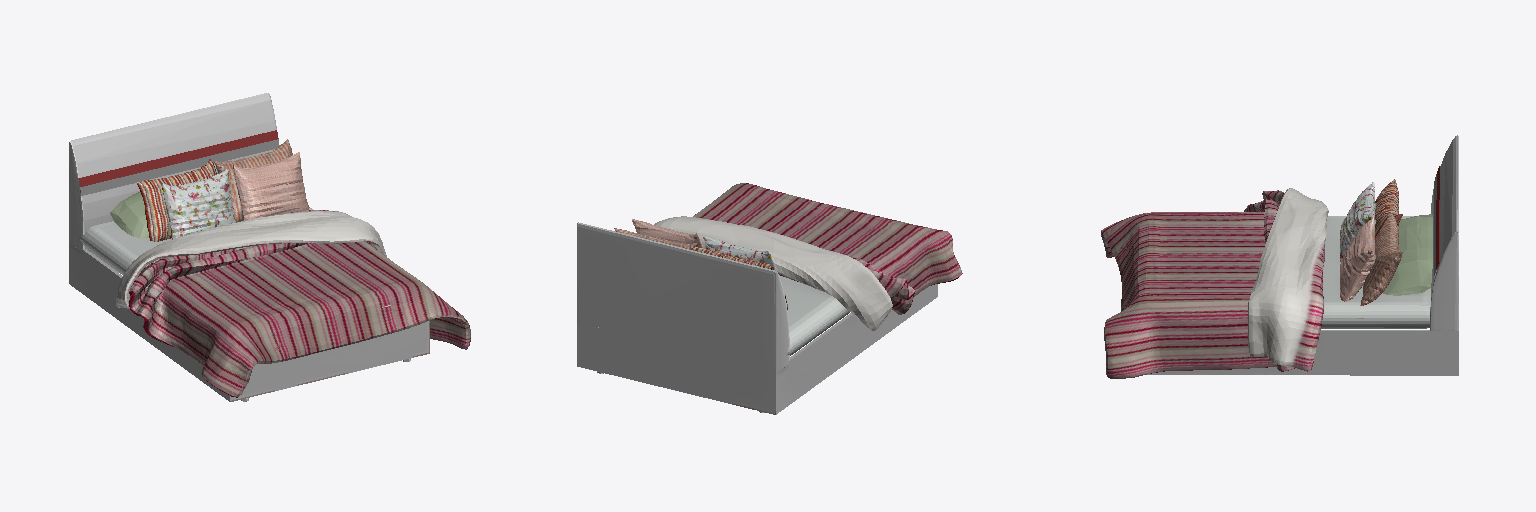
3 renders of one model, left to right at view 1: azimuth 30°, elevation 25°; view 2: azimuth 150°, elevation 25°; view 3: azimuth 270°, elevation 25°, orthographic.
Parts seen in each view (by area): view 1: solid_011, solid_004, solid_008, solid_007, solid_001, solid_005, solid_009, solid_010, solid_006, solid_003; view 2: solid_004, solid_011, solid_001, solid_007, solid_008; view 3: solid_011, solid_004, solid_001, solid_003, solid_006, solid_008, solid_007, solid_005.
Part boxes in pixels (bbox=[...]): solid_011: bbox=[116, 210, 470, 397]; solid_004: bbox=[69, 93, 429, 401]; solid_008: bbox=[233, 152, 308, 220]; solid_007: bbox=[161, 169, 235, 239]; solid_001: bbox=[79, 208, 390, 307]; solid_005: bbox=[137, 158, 216, 241]; solid_009: bbox=[78, 130, 278, 186]; solid_010: bbox=[80, 139, 279, 195]; solid_006: bbox=[214, 139, 309, 222]; solid_003: bbox=[110, 173, 217, 237]; solid_004: bbox=[577, 222, 937, 414]; solid_011: bbox=[654, 183, 962, 330]; solid_001: bbox=[779, 275, 849, 355]; solid_007: bbox=[703, 237, 775, 270]; solid_008: bbox=[632, 219, 702, 247]; solid_011: bbox=[1101, 188, 1328, 378]; solid_004: bbox=[1147, 135, 1458, 375]; solid_001: bbox=[1321, 216, 1430, 328]; solid_003: bbox=[1383, 214, 1432, 295]; solid_006: bbox=[1360, 213, 1402, 305]; solid_008: bbox=[1340, 217, 1375, 301]; solid_007: bbox=[1340, 182, 1375, 261]; solid_005: bbox=[1375, 179, 1402, 236].
Size of the model in its own units: 2.1 by 1.11 by 2.44.
1 materials, 1 textured.